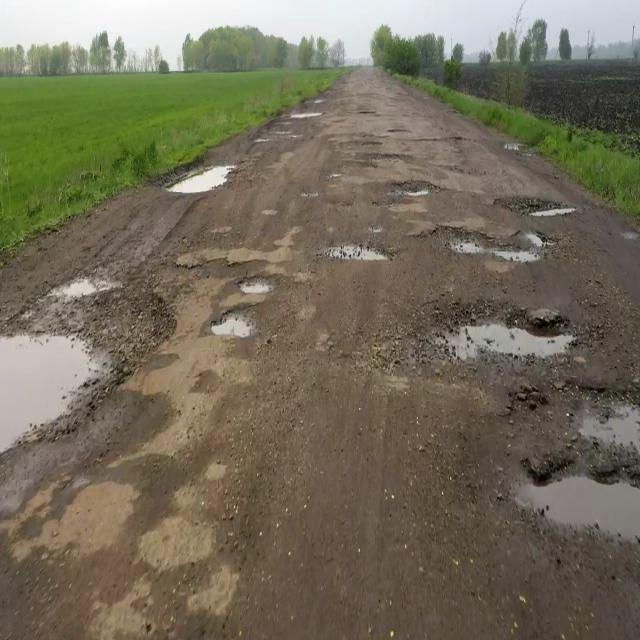Pothole: (0, 212, 146, 488), (449, 367, 640, 538), (407, 298, 598, 372), (176, 273, 295, 342), (384, 228, 578, 266), (144, 156, 243, 216), (468, 180, 586, 216), (292, 240, 398, 265), (282, 108, 326, 119)
